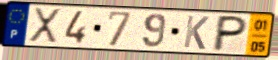4: (63, 10, 88, 46)
7: (107, 10, 133, 48)
9: (140, 12, 168, 49)
K: (182, 14, 211, 52)
P: (209, 14, 250, 53)
X: (26, 6, 62, 46)
